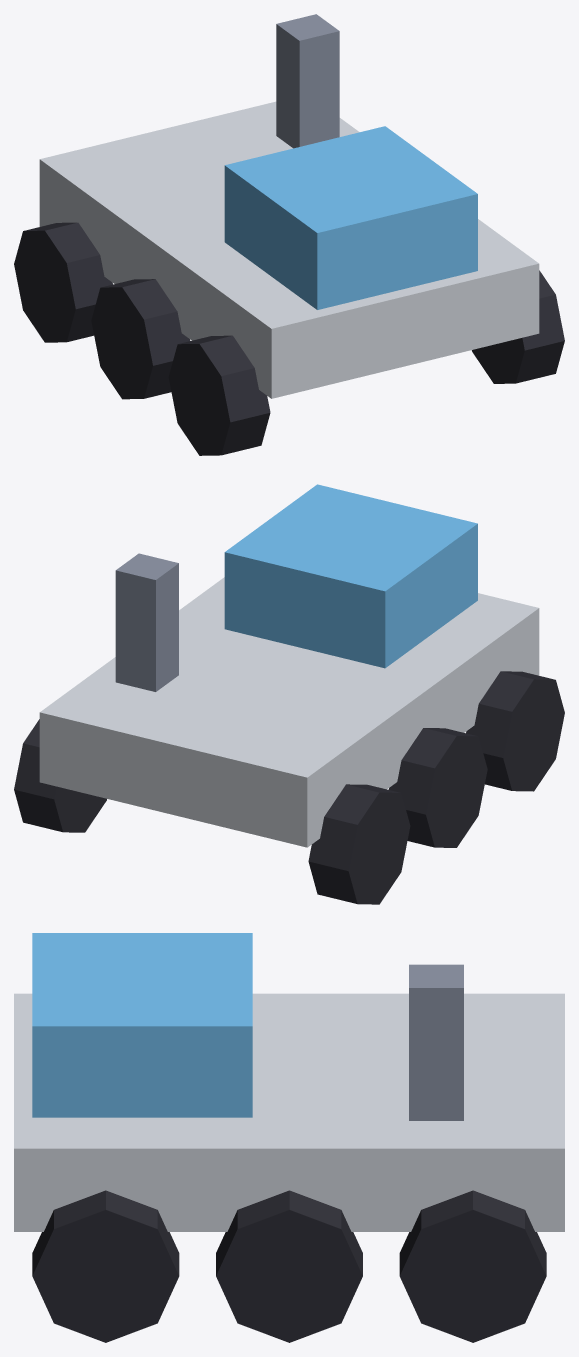
The model's file is colony-rover.glb.
3 renders of one model, top to bottom at view 1: azimuth 30°, elevation 25°; view 2: azimuth 150°, elevation 25°; view 3: azimuth 270°, elevation 25°, orthographic. The views are drawn at different scales.
Visible parts, largest first — view 1: rover; view 2: rover; view 3: rover.
Part boxes in pixels (<box>): rover: <box>14,14,564,455</box>; rover: <box>14,484,564,904</box>; rover: <box>14,933,564,1342</box>.
Size of the model in its own units: 2.5 by 1.9 by 3.
